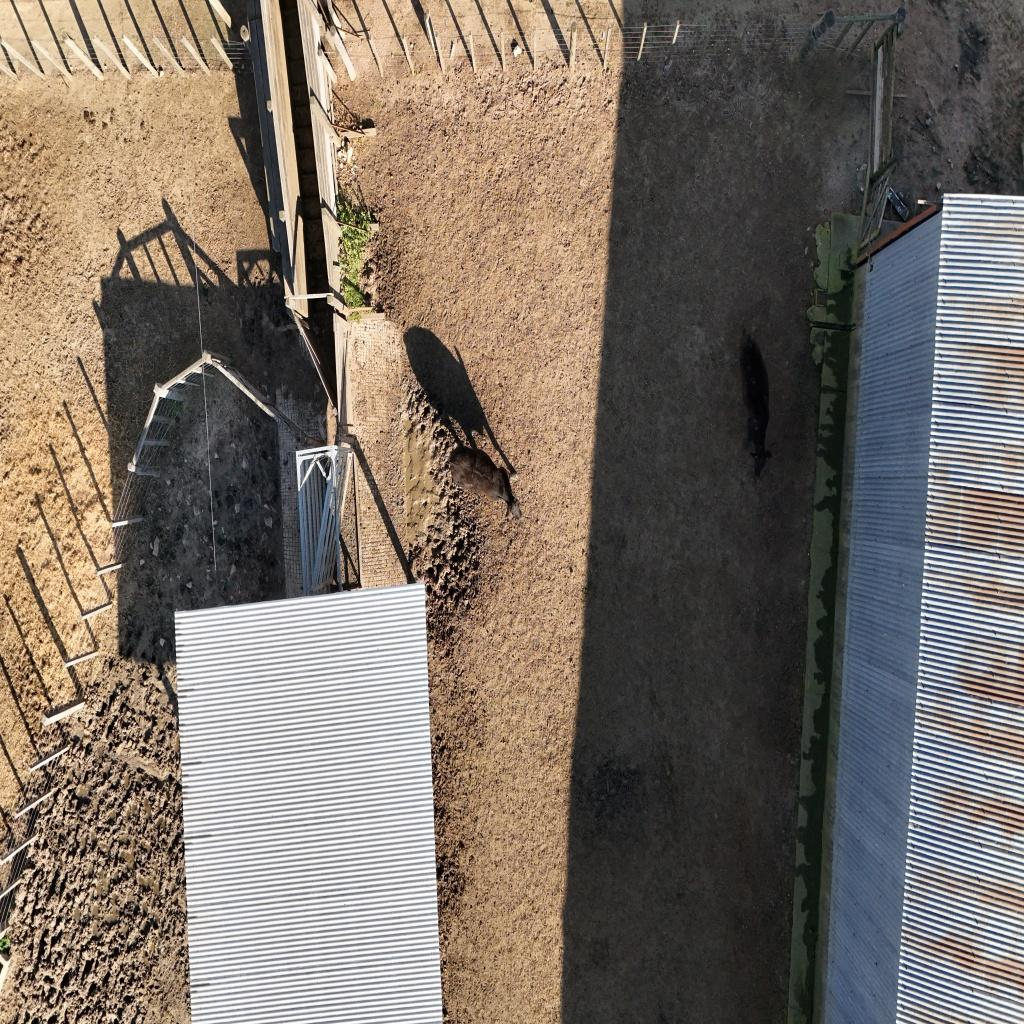cow: (447, 442, 524, 524), (738, 330, 774, 482)
